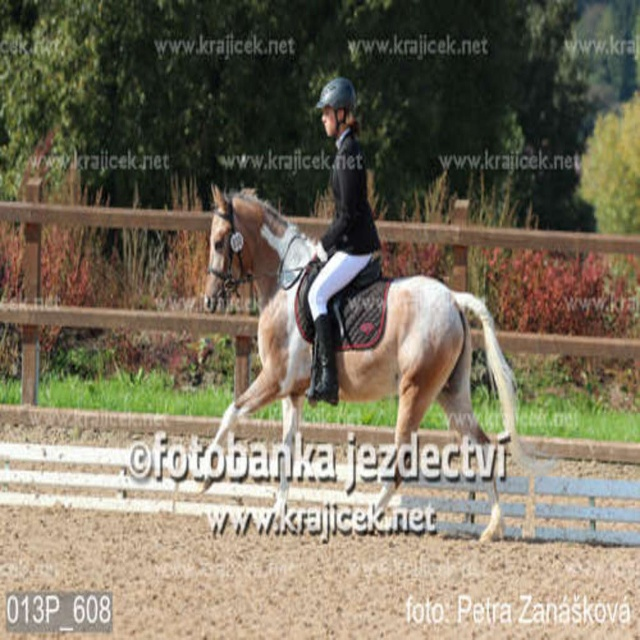Horse: (193, 184, 549, 543)
